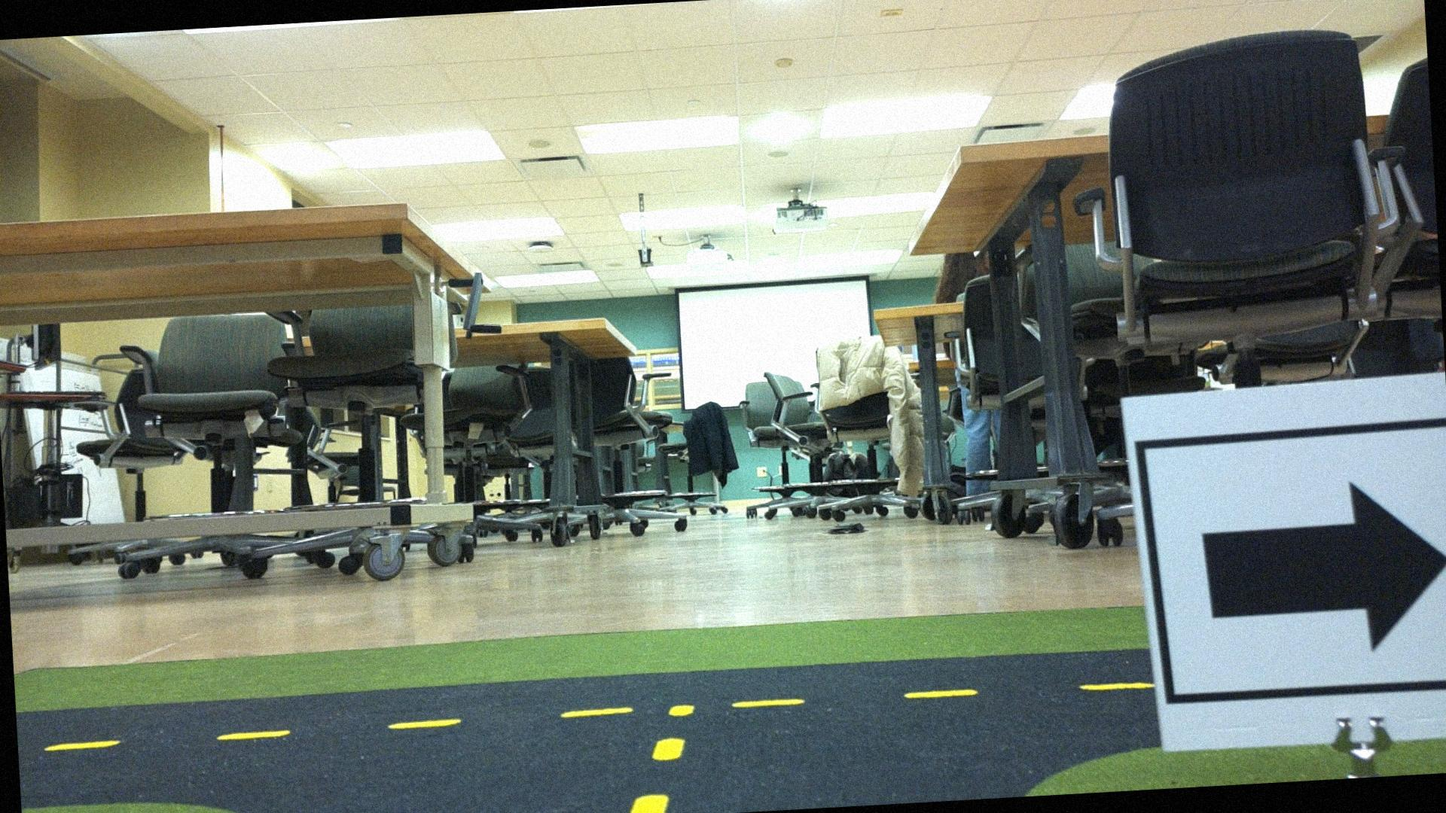turnleft: (1133, 378, 1445, 754)
yellowline: (46, 681, 1130, 753), (629, 737, 685, 812)
